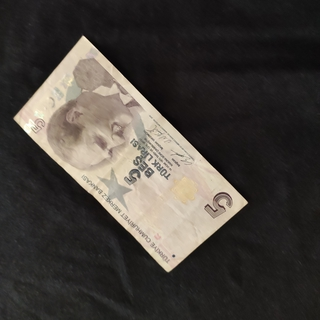5TLFront: (12, 34, 249, 272)
